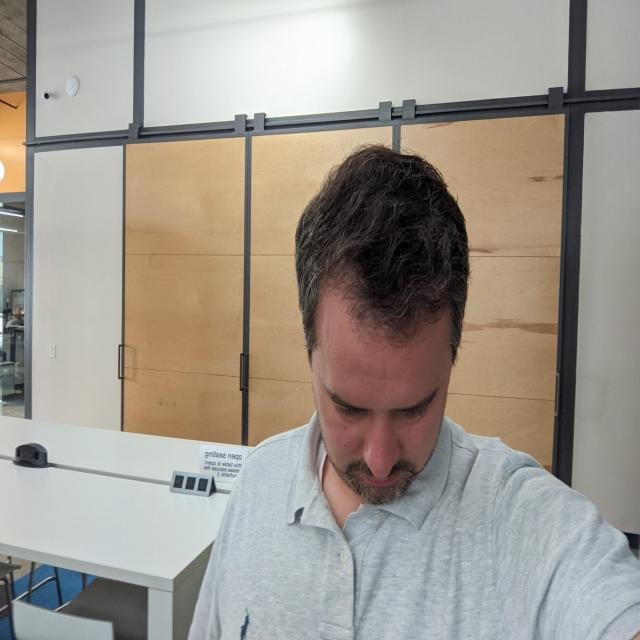face: (314, 306, 459, 508)
